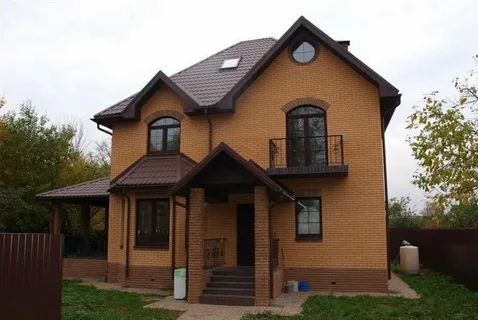private_hause: (101, 14, 400, 295)
